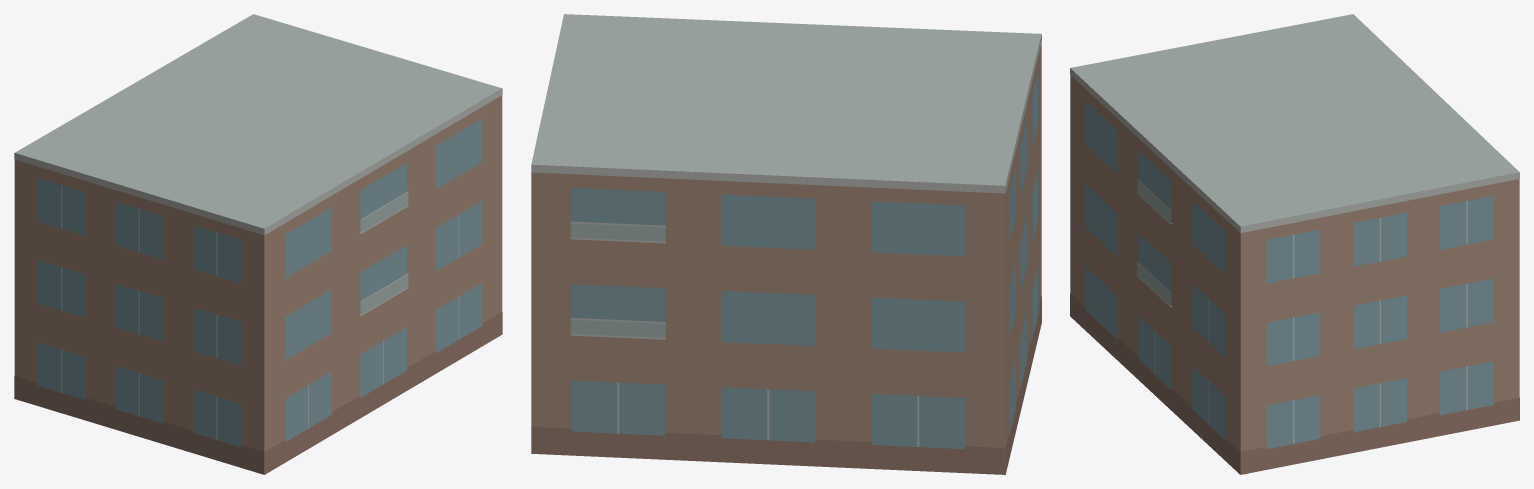
Rendered from survey-upis-32724366.glb.
The picture shows the model from 3 angles, left to right: view 1: azimuth 30°, elevation 25°; view 2: azimuth 150°, elevation 25°; view 3: azimuth 270°, elevation 25°; orthographic projection. The views are drawn at different scales.
Parts seen in each view (by area): view 1: survey-upis-32724366.tmp; view 2: survey-upis-32724366.tmp; view 3: survey-upis-32724366.tmp.
Boxes of the visible parts, box(x1,y1,x2,y2) form: survey-upis-32724366.tmp: box(14, 14, 502, 474); survey-upis-32724366.tmp: box(531, 14, 1041, 474); survey-upis-32724366.tmp: box(1070, 14, 1519, 474).
Bounding box in the file's own units: 16.82 × 9.15 × 15.03.
